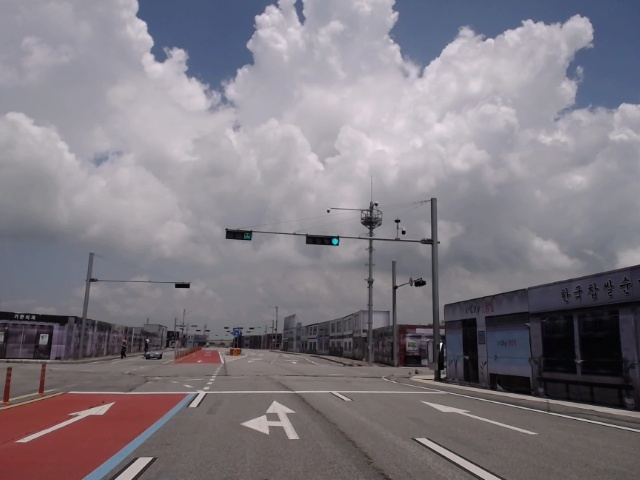straight_green_4: (306, 235, 340, 246)
